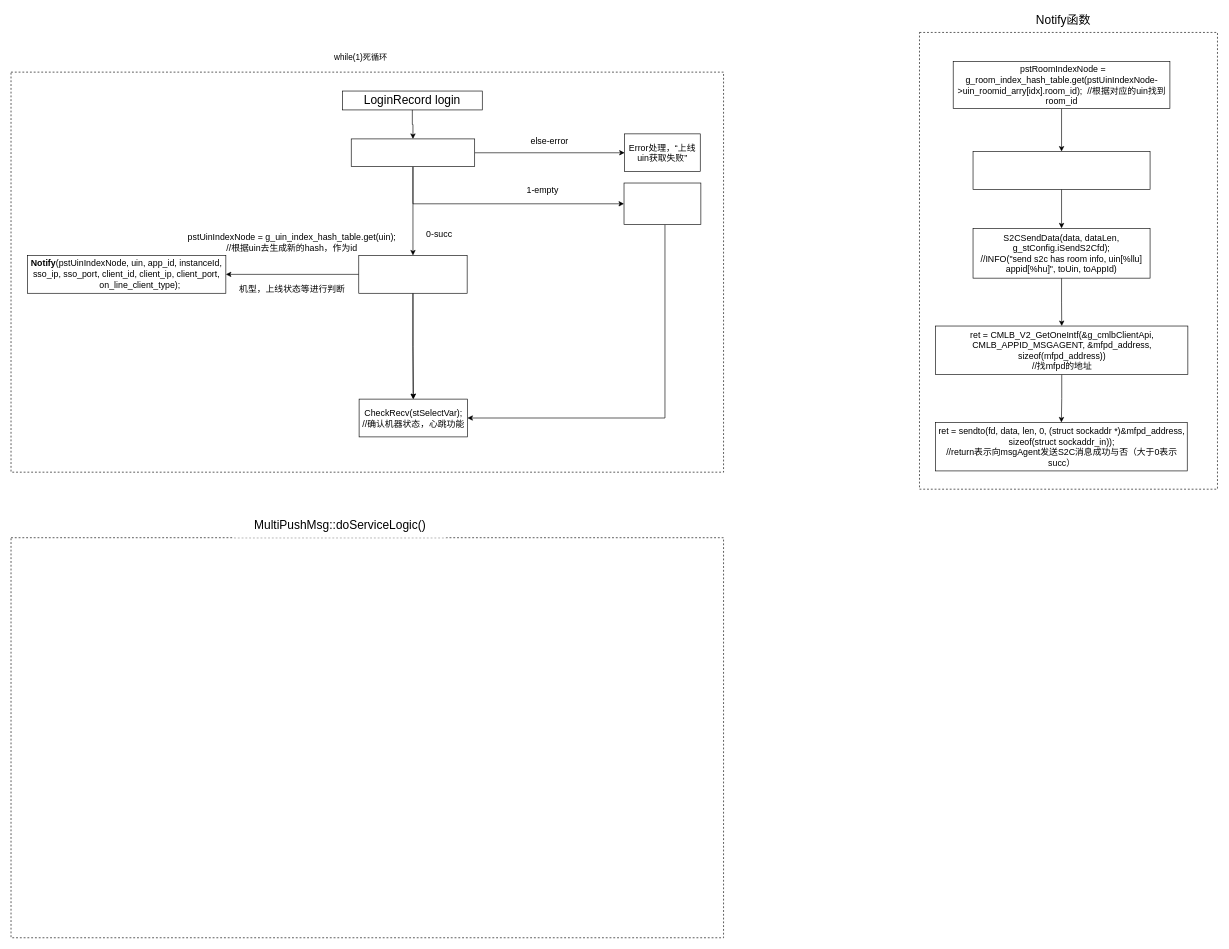
This 1229x949 diagram has some shape labels left out. Each missing label, with the centre of its shape:
"QueryUinRoomInfo(login) //查询该用户是否有room" belongs at [412,274].
"ret = LoginQuery_Get(login) //获取一条上下线记录" belongs at [413,152].
"S2CSendMsgToInstance(uin, uin, app_id, toInstanceId, head, msgBody)" belongs at [1061,170].
"unsleep(20)" belongs at [662,203].
